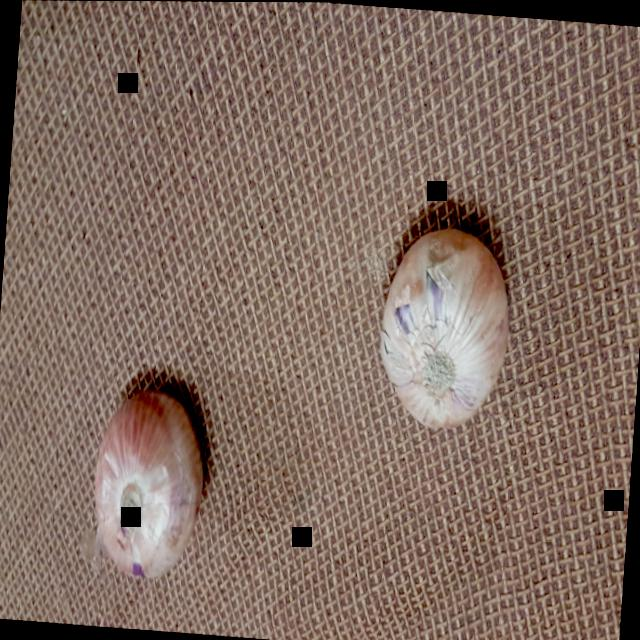onion: (361, 216, 521, 444), (77, 377, 214, 584)
